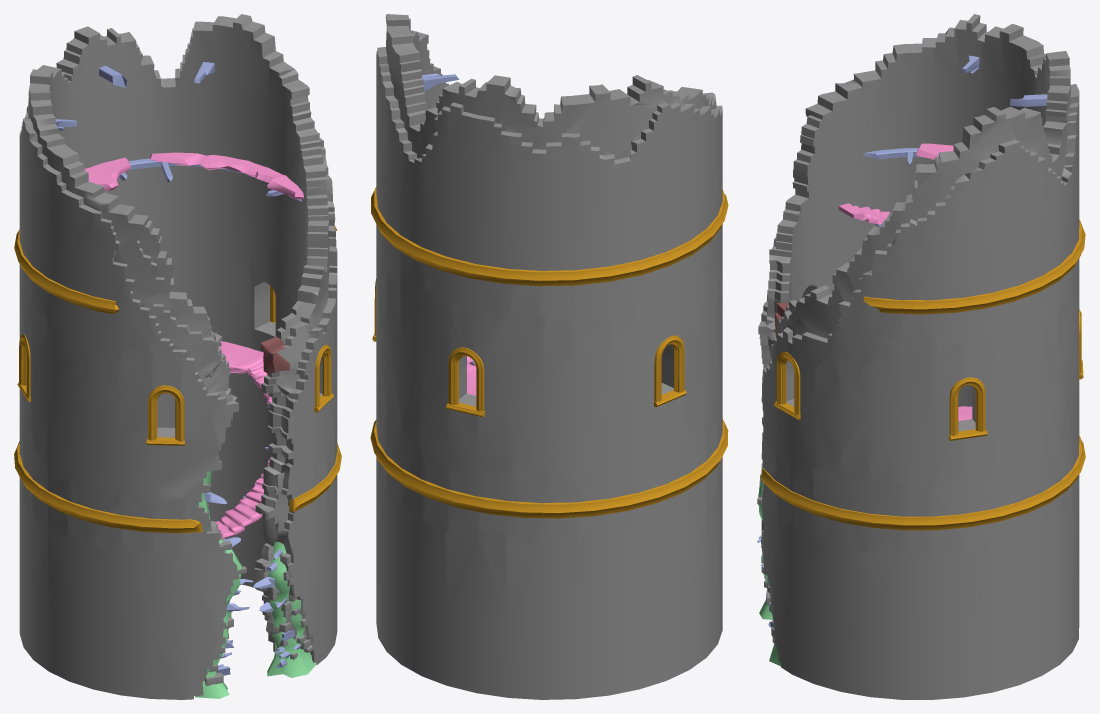
The model's file is SM_Big_Castle_Tower.fbx.
3 views of the same model, side by side, from view 1: azimuth 30°, elevation 25°; view 2: azimuth 150°, elevation 25°; view 3: azimuth 270°, elevation 25° (orthographic). The views are drawn at different scales.
Visible parts, largest first — view 1: SM_Big_Castle_Tower_LOD0; view 2: SM_Big_Castle_Tower_LOD0; view 3: SM_Big_Castle_Tower_LOD0.
Part boxes in pixels (bbox=[...]): SM_Big_Castle_Tower_LOD0: bbox=[14, 14, 341, 699]; SM_Big_Castle_Tower_LOD0: bbox=[370, 14, 728, 699]; SM_Big_Castle_Tower_LOD0: bbox=[757, 14, 1085, 699].
Size of what is drawn, in the model's own units: 1119 by 2115 by 1099.
